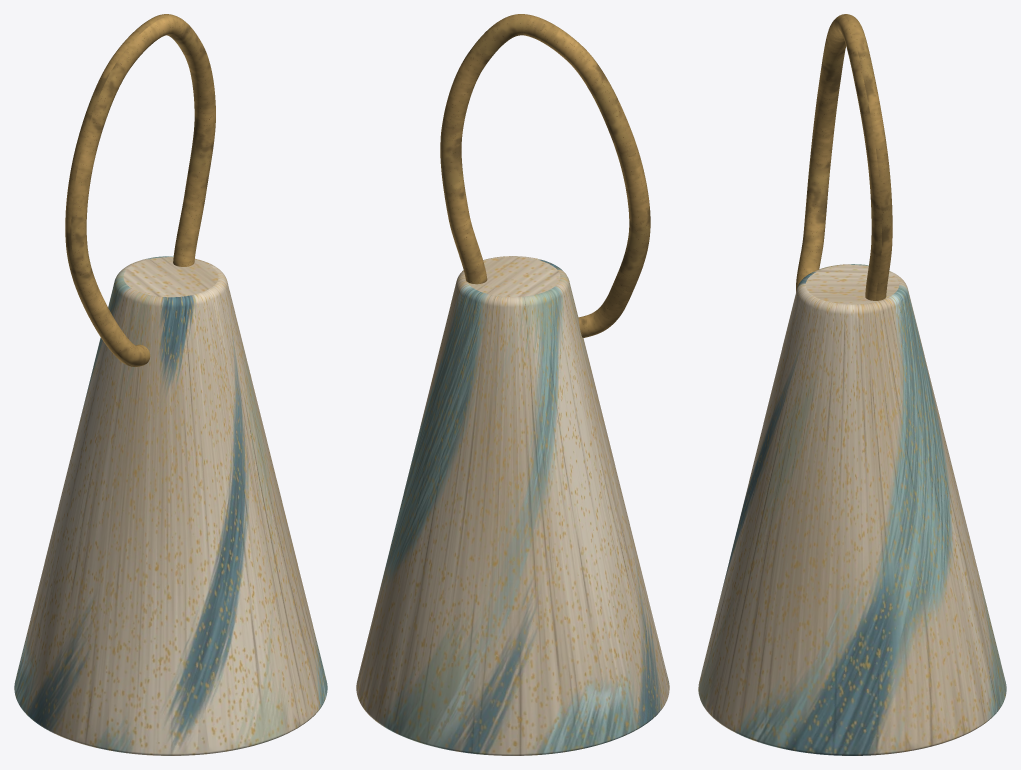
Rendered from king-white-hd.glb.
The picture shows the model from 3 angles, left to right: view 1: azimuth 30°, elevation 25°; view 2: azimuth 150°, elevation 25°; view 3: azimuth 270°, elevation 25°; orthographic projection.
Parts seen in each view (by area): view 1: Telo, Smycka; view 2: Telo, Smycka; view 3: Telo, Smycka.
Boxes of the visible parts, box(x1,y1,x2,y2) form: Telo: box(14, 256, 327, 755); Smycka: box(65, 14, 215, 366); Telo: box(356, 256, 669, 755); Smycka: box(440, 14, 650, 337); Telo: box(698, 264, 1006, 755); Smycka: box(796, 14, 892, 300).
Size of the model in its own units: 0.6367 by 1.52 by 0.6367.
Materials: 2 (2 with a texture image).
